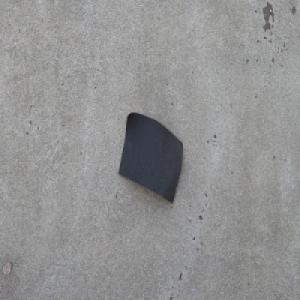PaintChip: (118, 111, 184, 204)
